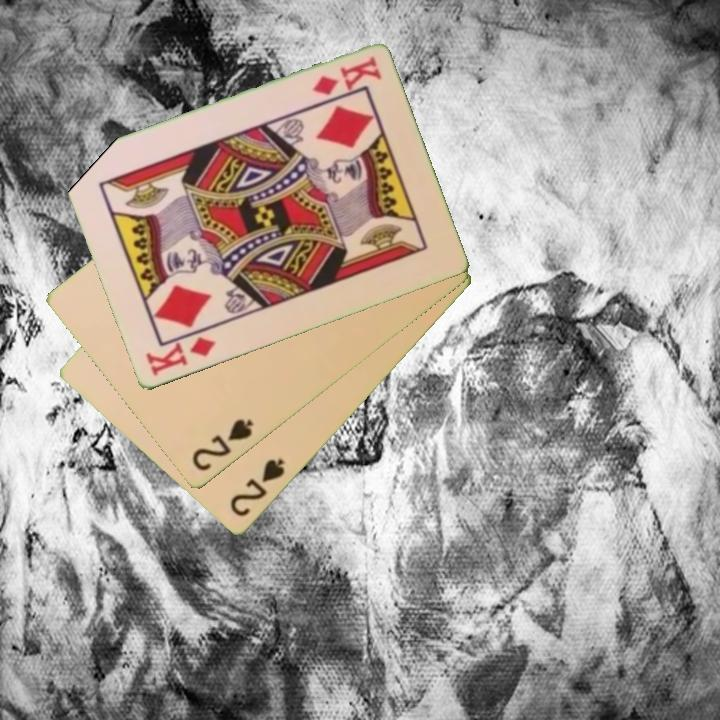2s: (188, 415, 257, 475), (227, 455, 288, 520)
Kd: (142, 333, 219, 380), (308, 53, 384, 99)
